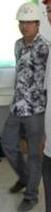boots: (17, 195, 38, 210), (9, 178, 27, 191)
hard-hat: (15, 0, 42, 20)
